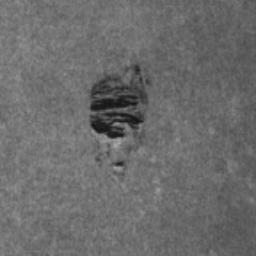Secondary rust skin: (88, 63, 150, 140)
